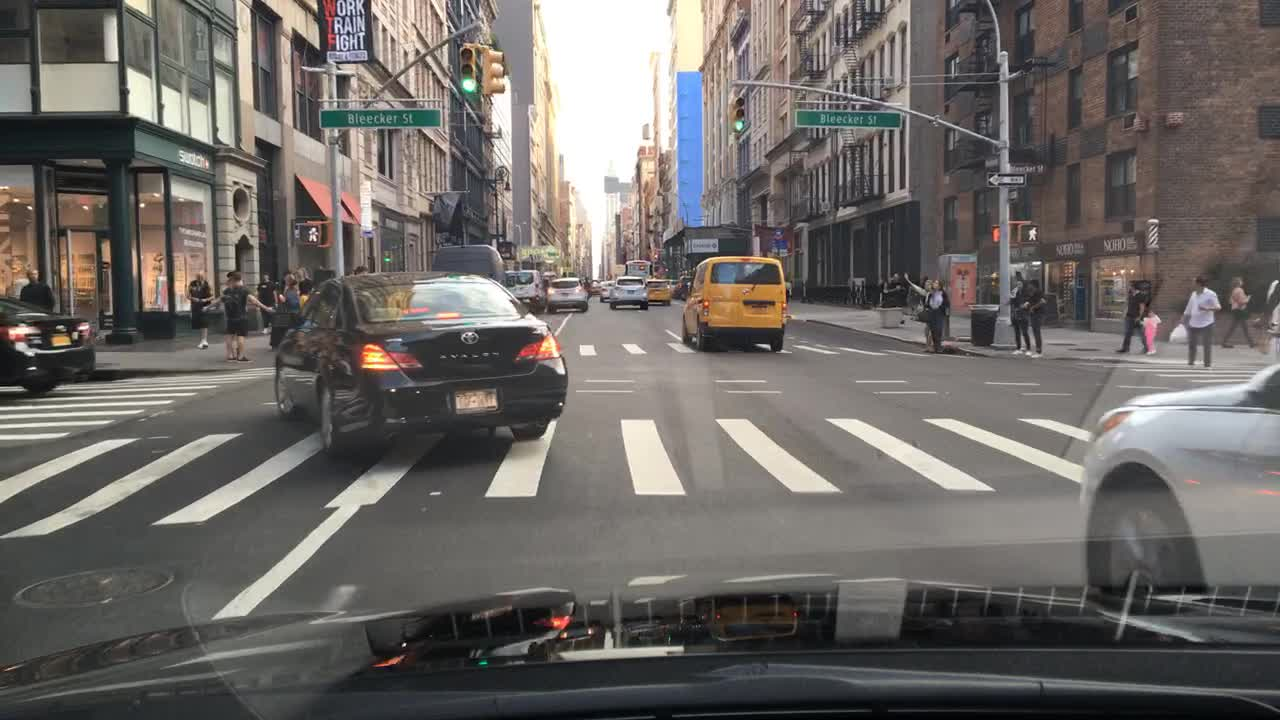car: (272, 269, 570, 461), (1078, 361, 1279, 591), (681, 253, 789, 353), (0, 293, 98, 395), (546, 275, 590, 315), (508, 267, 544, 310), (613, 276, 649, 314), (642, 278, 670, 305), (672, 276, 693, 298), (601, 278, 613, 298), (586, 278, 602, 293)
person: (202, 273, 272, 365), (1168, 275, 1217, 367), (901, 269, 949, 351), (1217, 274, 1261, 354), (1115, 276, 1152, 354), (1021, 276, 1051, 358), (1005, 274, 1031, 356), (184, 271, 212, 346), (1257, 279, 1279, 356), (20, 267, 58, 307), (255, 270, 276, 331), (915, 279, 929, 358), (1139, 308, 1161, 352), (277, 262, 294, 307), (879, 274, 902, 303), (298, 278, 313, 310), (285, 283, 299, 315)
traffic light: (486, 47, 505, 95), (460, 41, 474, 100), (732, 96, 746, 136), (294, 220, 319, 239), (1020, 223, 1039, 244), (993, 223, 1003, 243)
traffic sign: (789, 109, 902, 130), (318, 109, 441, 125), (984, 173, 1024, 187)
truck: (427, 241, 510, 285), (620, 256, 652, 279)
